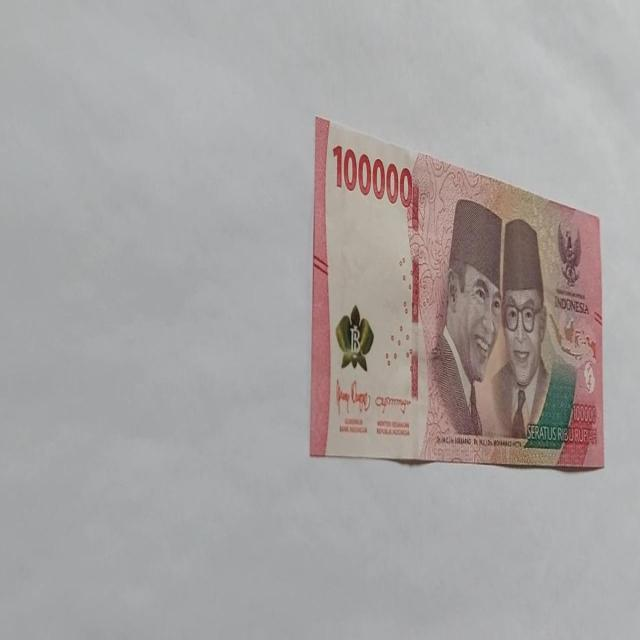Kertas: (309, 115, 605, 470), (332, 142, 414, 209)
